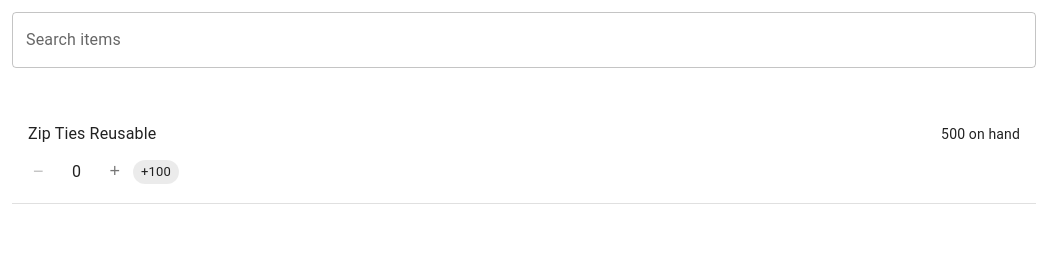
Test case: adding to the batch › offers the item's packaging as one tap, because +1 is no use for hundreds
expect the heading "Zip Ties Reusable" is shown: met, box [28,120,156,148]
Click the button named "Add a packet of 100 Zip Ties Reusable" at (156, 172), box [133,160,179,184]
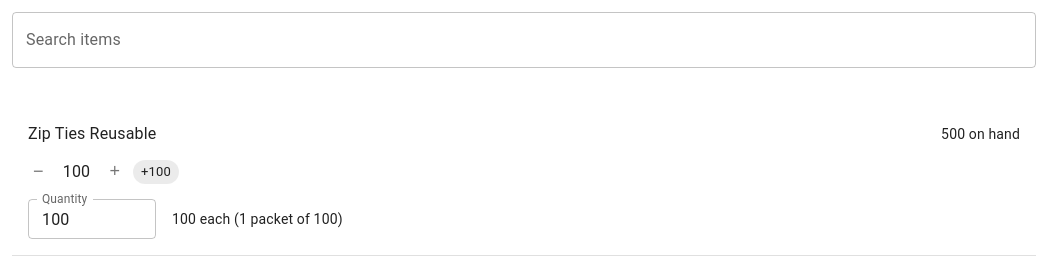
expect the text "100 each (1 packet of 100)" is shown: met, box [172,209,343,229]
